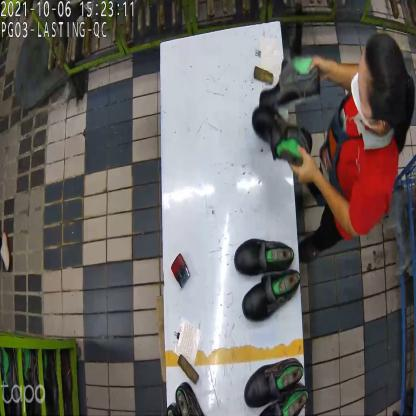shoes: (252, 57, 322, 166), (232, 238, 302, 323), (242, 360, 308, 415)
stamp: (173, 253, 191, 287)
